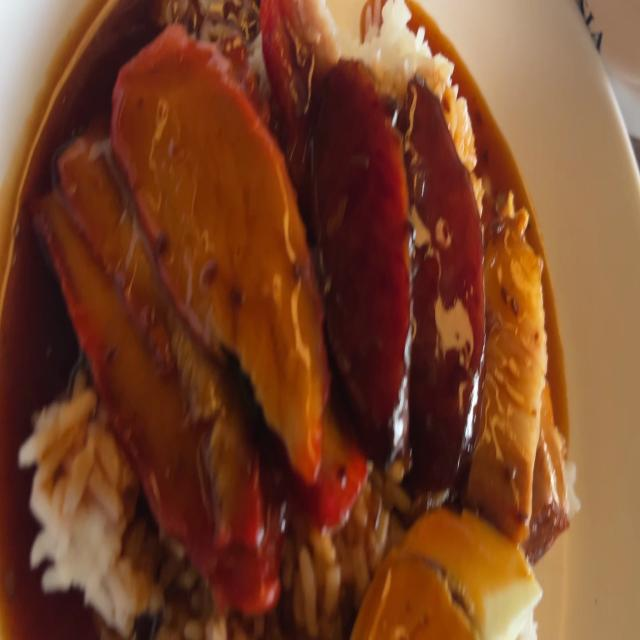01boiled_egg: (359, 516, 538, 640)
01chainese_sausage: (318, 45, 480, 498), (310, 55, 400, 450), (408, 74, 483, 516)
01crispy_pork: (485, 186, 567, 547), (493, 188, 537, 538)
01red_pork: (38, 41, 328, 571), (123, 23, 326, 470), (59, 138, 269, 528), (259, 0, 333, 104)
01red_pork_and_crispy_pork: (23, 0, 582, 640)
01rice: (31, 405, 132, 620), (354, 0, 449, 88)
